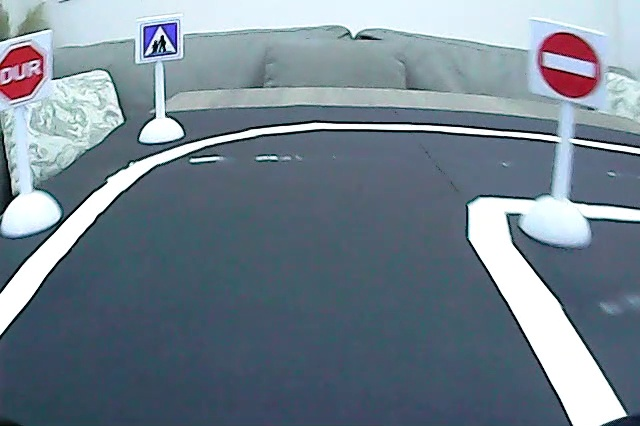do not enter: (534, 30, 604, 102)
school crossing: (140, 20, 179, 61)
stop sign: (1, 40, 47, 104)
